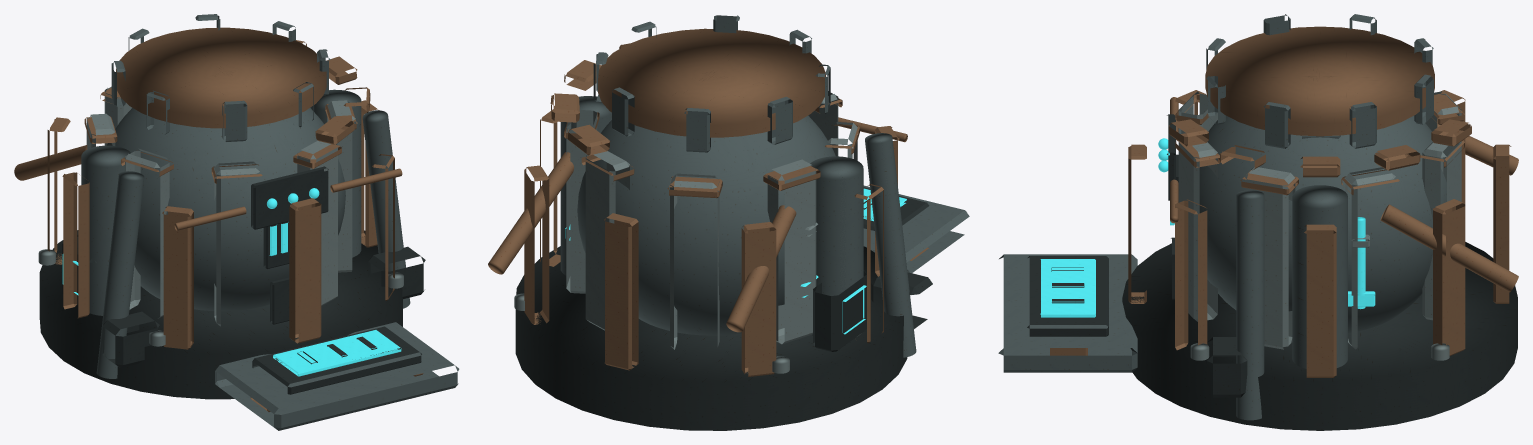
File: heartforge.gltf
3 views of the same model, side by side, from view 1: azimuth 30°, elevation 25°; view 2: azimuth 150°, elevation 25°; view 3: azimuth 270°, elevation 25° (orthographic). The views are drawn at different scales.
Visible parts, largest first — view 1: CoreHousingShell, Foundation, HeartforgeUpperCollar, ForgeBench, ForgeCoolantStackLeft, Rib02, WestStack, Rib03, Rib04, ForgeCoolantStackRight, AssemblyPlate, HeartforgeFocalControlFace (+22 smaller); view 2: Foundation, CoreHousingShell, HeartforgeUpperCollar, WestStack, CoreCladdingSegment04, ForgeCoolantStackLeft, Rib06, Rib05, CoreCladdingSegment06, ForgeBench, ForgeControlCabinet, Rib07 (+18 smaller); view 3: Foundation, CoreHousingShell, HeartforgeUpperCollar, ForgeBench, ForgeCoolantStackRight, EastStack, Rib00, CoreCladdingSegment00, Rib07, Rib01, AssemblyPlateGlow, AssemblyPlate (+22 smaller).
Boxes of the visible parts, x1,y1,x2,y2 form: CoreHousingShell: (107, 108, 345, 311); Foundation: (39, 230, 402, 399); HeartforgeUpperCollar: (116, 27, 326, 128); ForgeBench: (215, 322, 459, 430); ForgeCoolantStackLeft: (96, 171, 144, 378); Rib02: (289, 198, 321, 343); WestStack: (81, 145, 130, 315); Rib03: (162, 206, 193, 349); Rib04: (62, 172, 89, 318); ForgeCoolantStackRight: (362, 110, 410, 308); AssemblyPlate: (252, 326, 421, 394); HeartforgeFocalControlFace: (251, 166, 328, 229); Foundation: (515, 246, 907, 430); CoreHousingShell: (577, 115, 835, 335); HeartforgeUpperCollar: (598, 28, 825, 137); WestStack: (810, 156, 863, 336); CoreCladdingSegment04: (767, 159, 816, 344); ForgeCoolantStackLeft: (865, 133, 916, 357); Rib06: (604, 213, 638, 370); Rib05: (741, 222, 776, 376); CoreCladdingSegment06: (585, 151, 629, 330); ForgeBench: (863, 185, 969, 273); ForgeControlCabinet: (813, 270, 866, 351); Rib07: (524, 165, 549, 324); Foundation: (1122, 242, 1517, 430); CoreHousingShell: (1199, 115, 1446, 332); HeartforgeUpperCollar: (1205, 26, 1434, 136); ForgeBench: (998, 254, 1137, 372); ForgeCoolantStackRight: (1236, 190, 1264, 420); EastStack: (1292, 185, 1347, 368); Rib00: (1304, 224, 1336, 377); CoreCladdingSegment00: (1244, 167, 1295, 349); Rib07: (1433, 199, 1465, 355); Rib01: (1175, 199, 1207, 350); AssemblyPlateGlow: (1040, 259, 1095, 317); AssemblyPlate: (1027, 256, 1108, 336).
Size of the model in its own units: 5.1 by 4.07 by 6.71.
6 materials, 6 textured.
